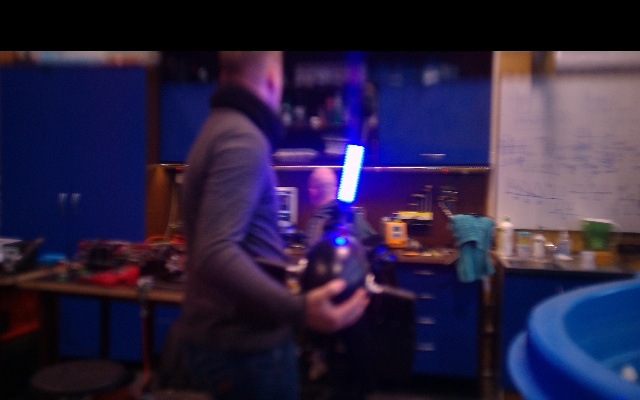blue: (336, 143, 365, 202)
